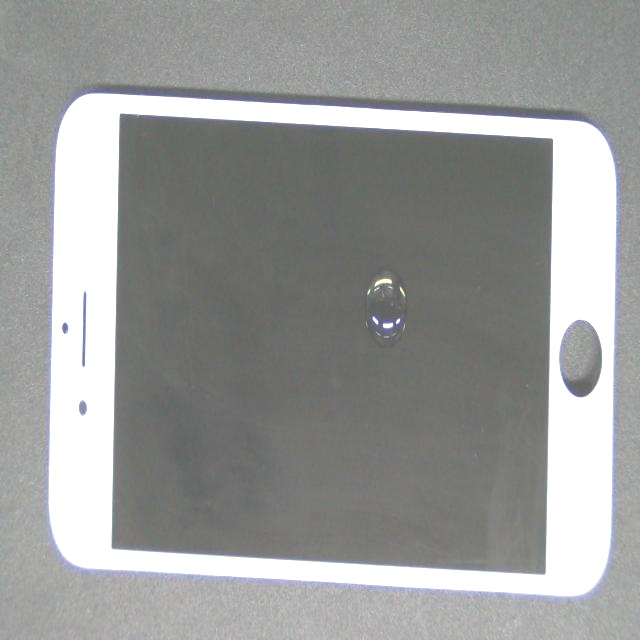oil: (219, 155, 608, 426)
